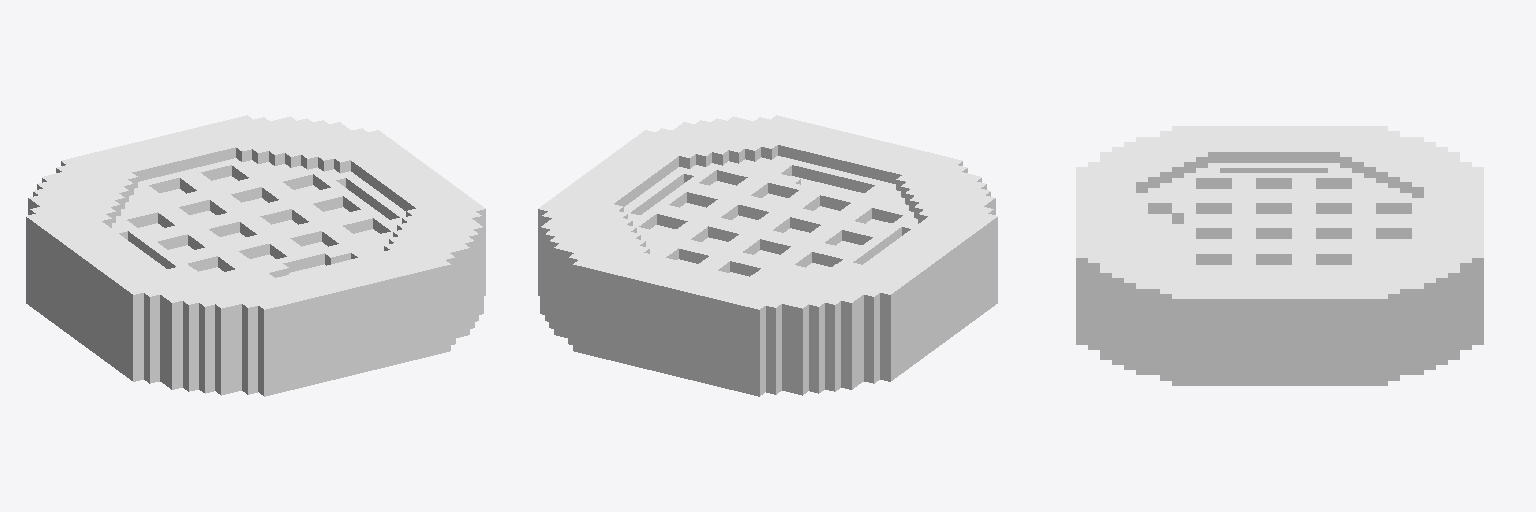
The model's file is DustFactory.obj.
3 renders of one model, left to right at view 1: azimuth 30°, elevation 25°; view 2: azimuth 150°, elevation 25°; view 3: azimuth 270°, elevation 25°, orthographic.
Parts seen in each view (by area): view 1: object 1; view 2: object 1; view 3: object 1.
Boxes of the visible parts, x1,y1,x2,y2 form: object 1: [26, 115, 485, 396]; object 1: [538, 115, 997, 396]; object 1: [1076, 126, 1483, 385].
Bounding box in the file's own units: 3.4 × 0.8 × 3.4.